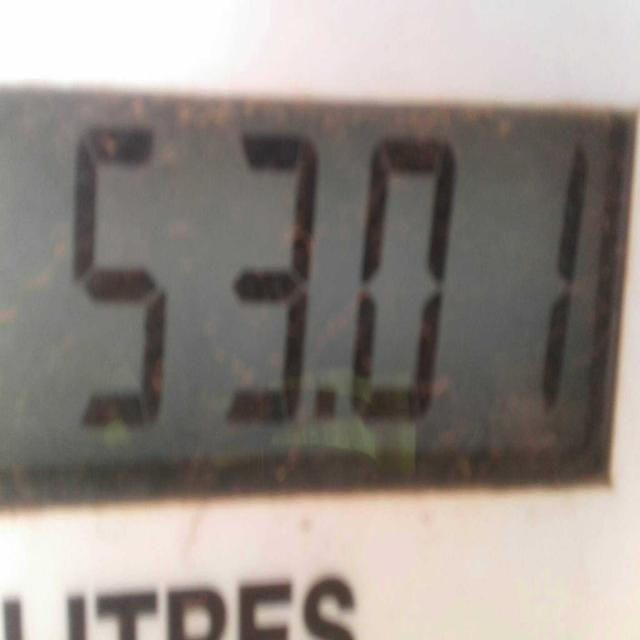.: (307, 381, 347, 450)
0: (355, 131, 466, 436)
1: (522, 138, 594, 424)
3: (231, 131, 312, 420)
5: (72, 132, 171, 423)
